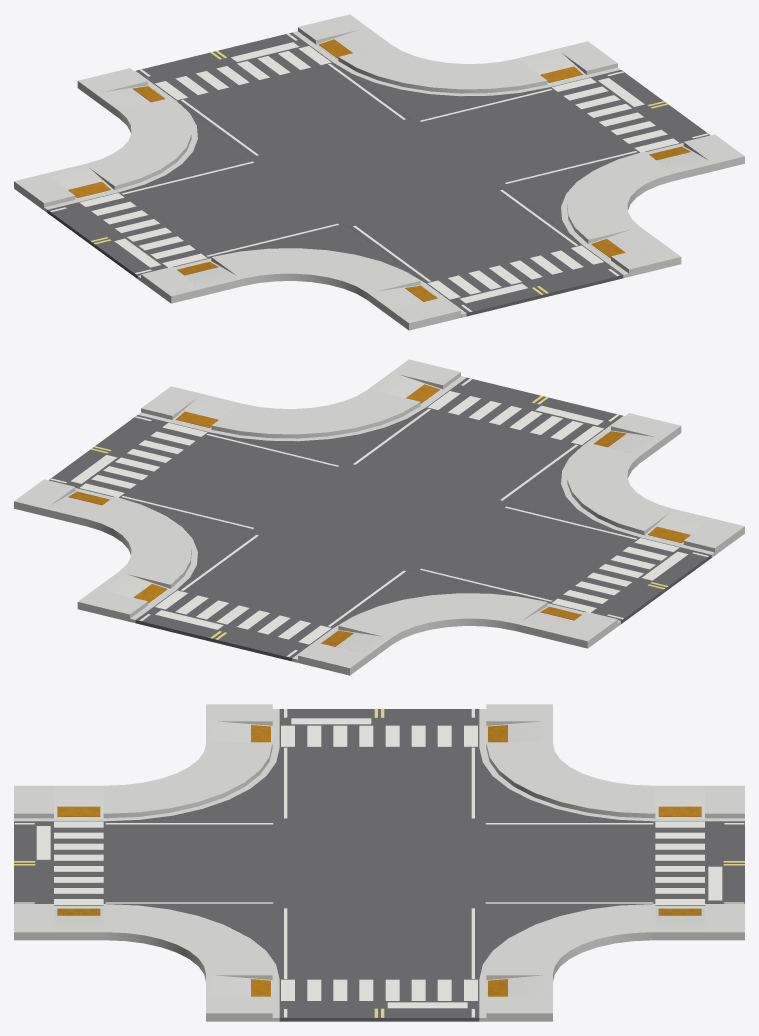
Rendered from Road_Junction.fbx.
The picture shows the model from 3 angles, top to bottom: view 1: azimuth 30°, elevation 25°; view 2: azimuth 150°, elevation 25°; view 3: azimuth 270°, elevation 25°; orthographic projection. The views are drawn at different scales.
Visible parts, largest first — view 1: LOD0; view 2: LOD0; view 3: LOD0.
Boxes of the visible parts, bbox=[...] form: LOD0: bbox=[14, 14, 744, 330]; LOD0: bbox=[14, 359, 744, 675]; LOD0: bbox=[14, 704, 744, 1021].
Size of what is drawn, in the model's own units: 2200 by 27 by 2200.
